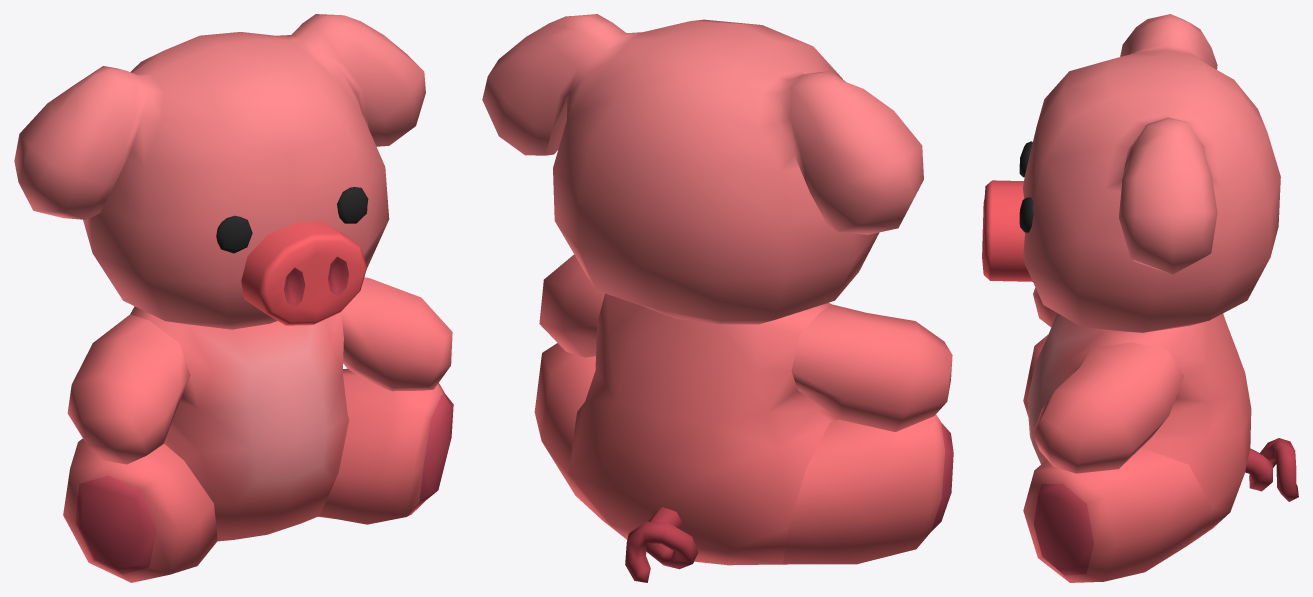
The model's file is Pig_01.fbx.
3 views of the same model, side by side, from view 1: azimuth 30°, elevation 25°; view 2: azimuth 150°, elevation 25°; view 3: azimuth 270°, elevation 25° (orthographic). The views are drawn at different scales.
Parts seen in each view (by area): view 1: Pig_01; view 2: Pig_01; view 3: Pig_01.
Part boxes in pixels (<box>): Pig_01: <box>14,14,453,582</box>; Pig_01: <box>482,14,953,582</box>; Pig_01: <box>982,14,1298,582</box>.
Size of the model in its own units: 35.23 by 25.34 by 40.28.
